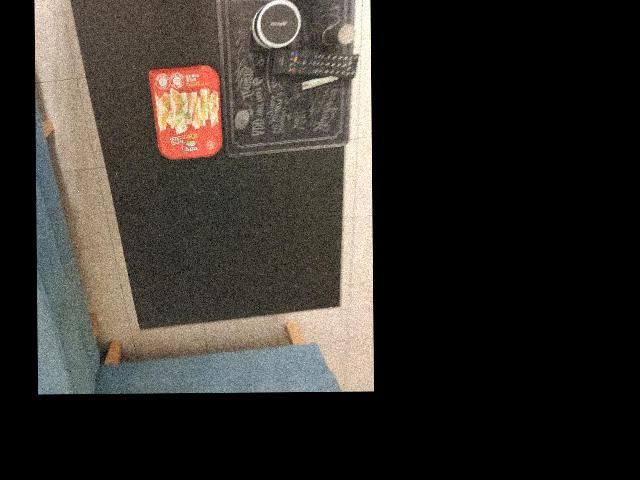cheese: (145, 65, 225, 156)
